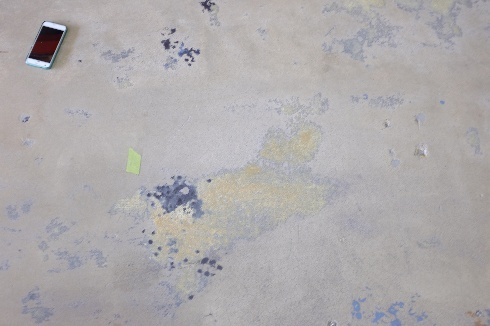phone: (22, 28, 71, 60)
